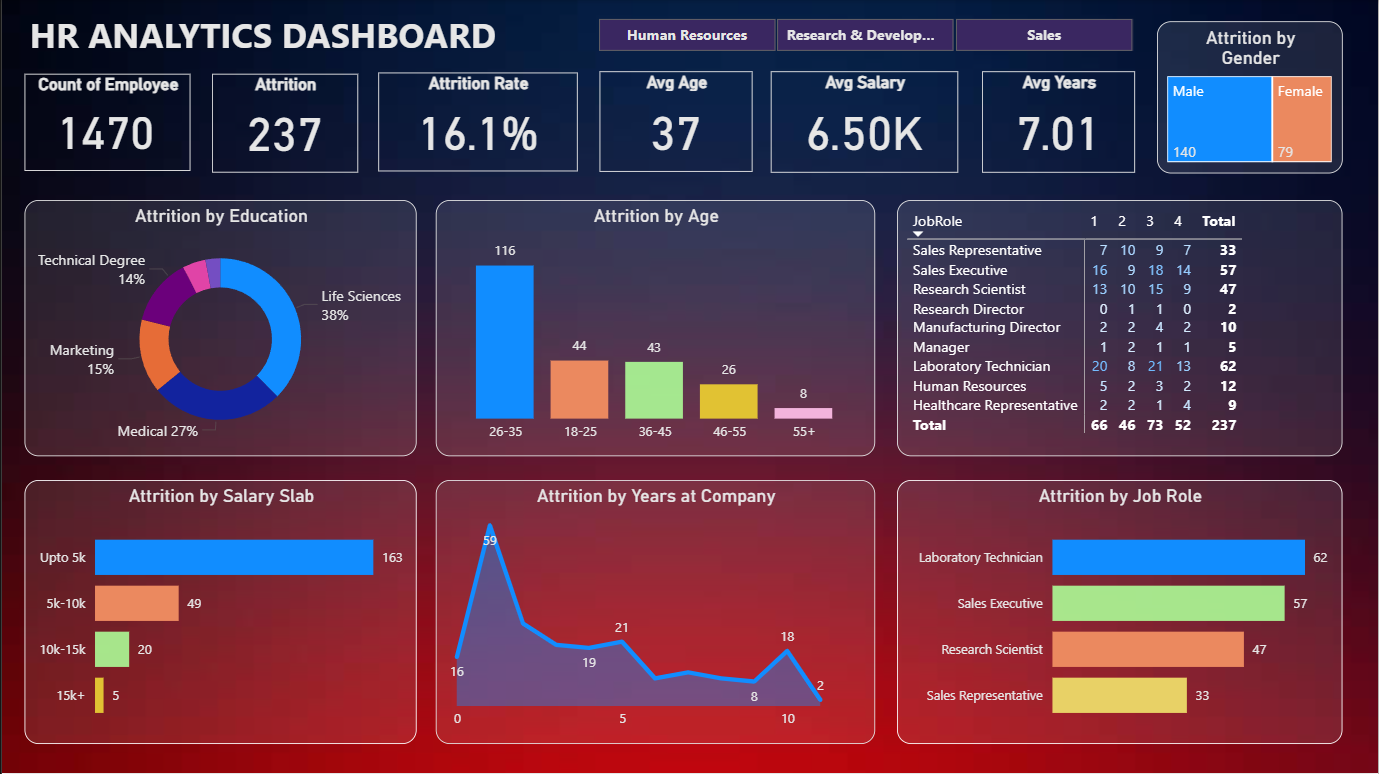

This screenshot's page, from the dashboard's own definition file:
{"tool":"powerbi","page":{"name":"Page 1","canvas":[1280,720],"ordinal":0},"visuals":[{"type":"cardVisual","title":"Count of Employee","fields":{"Data":["CountNonNull(HR_Analytics.EmpID)"]},"box":[20.9,68.6,154.7,90.7],"z":0},{"type":"cardVisual","title":"Attrition","fields":{"Data":["Sum(HR_Analytics.AttritionCount)"]},"box":[194.9,68.6,135.8,91.9],"z":1000},{"type":"cardVisual","title":"Attrition Rate","fields":{"Data":["HR_Analytics.AttritionRate"]},"box":[349.9,67.2,185.2,91.9],"z":2000},{"type":"cardVisual","title":"Avg Age","fields":{"Data":["HR_Analytics.AverageAgeRounded"]},"box":[555.7,65.9,142.7,93.3],"z":3000},{"type":"cardVisual","title":"Avg Salary","fields":{"Data":["Avg(HR_Analytics.MonthlyIncome)"]},"box":[714.9,65.9,174.3,94.7],"z":4000},{"type":"cardVisual","title":"Avg Years","fields":{"Data":["Avg(HR_Analytics.YearsAtCompany)"]},"box":[911.2,65.9,142.7,94.7],"z":5000},{"type":"donutChart","title":"Attrition by Education","fields":{"Category":["HR_Analytics.EducationField"],"Y":["Sum(HR_Analytics.AttritionCount)"]},"box":[20.6,186.6,365,238.8],"z":6000},{"type":"columnChart","title":"Attrition by Age","fields":{"Category":["HR_Analytics.AgeGroup"],"Y":["Sum(HR_Analytics.AttritionCount)"]},"box":[403.4,186.6,408.9,238.8],"z":7000},{"type":"pivotTable","fields":{"Rows":["HR_Analytics.JobRole"],"Columns":["HR_Analytics.JobSatisfaction"],"Values":["Sum(HR_Analytics.AttritionCount)"]},"box":[832.9,186.6,414.4,238.8],"z":8000},{"type":"barChart","title":"Attrition by Salary Slab","fields":{"Category":["HR_Analytics.SalarySlab"],"Y":["Sum(HR_Analytics.AttritionCount)"]},"box":[20.6,446,365,245.6],"z":9000},{"type":"barChart","title":"Attrition by Job Role","fields":{"Category":["HR_Analytics.JobRole"],"Y":["Sum(HR_Analytics.AttritionCount)"]},"box":[832.9,446,414.4,245.6],"z":10000},{"type":"areaChart","title":"Attrition by Years at Company","fields":{"Category":["HR_Analytics.YearsAtCompany"],"Y":["Sum(HR_Analytics.AttritionCount)"]},"box":[403.4,446,408.9,245.6],"z":11000},{"type":"treemap","title":"Attrition by Gender","fields":{"Group":["HR_Analytics.Gender"],"Values":["Sum(HR_Analytics.AttritionCount)"]},"box":[1074.4,19.2,172.9,141.3],"z":12000},{"type":"slicer","fields":{"Values":["HR_Analytics.Department"]},"box":[529.1,10.5,546.5,44.2],"z":13000},{"type":"textbox","box":[20.9,5.8,533.7,52.3],"z":14000}]}

Visuals, with their boxes in screenshot pixels (x1, y1, x2, y2), scaled from the page's 1280x720 canvas onto the 1379x774 screenshot:
"Count of Employee" cardVisual: BBox(23, 74, 189, 171)
"Attrition" cardVisual: BBox(210, 74, 356, 173)
"Attrition Rate" cardVisual: BBox(377, 72, 576, 171)
"Avg Age" cardVisual: BBox(599, 71, 752, 171)
"Avg Salary" cardVisual: BBox(770, 71, 958, 173)
"Avg Years" cardVisual: BBox(982, 71, 1135, 173)
"Attrition by Education" donutChart: BBox(22, 201, 415, 457)
"Attrition by Age" columnChart: BBox(435, 201, 875, 457)
pivotTable - HR_Analytics.JobRole x HR_Analytics.JobSatisfaction: BBox(897, 201, 1344, 457)
"Attrition by Salary Slab" barChart: BBox(22, 479, 415, 743)
"Attrition by Job Role" barChart: BBox(897, 479, 1344, 743)
"Attrition by Years at Company" areaChart: BBox(435, 479, 875, 743)
"Attrition by Gender" treemap: BBox(1157, 21, 1344, 173)
slicer - HR_Analytics.Department: BBox(570, 11, 1159, 59)
textbox: BBox(23, 6, 597, 62)
